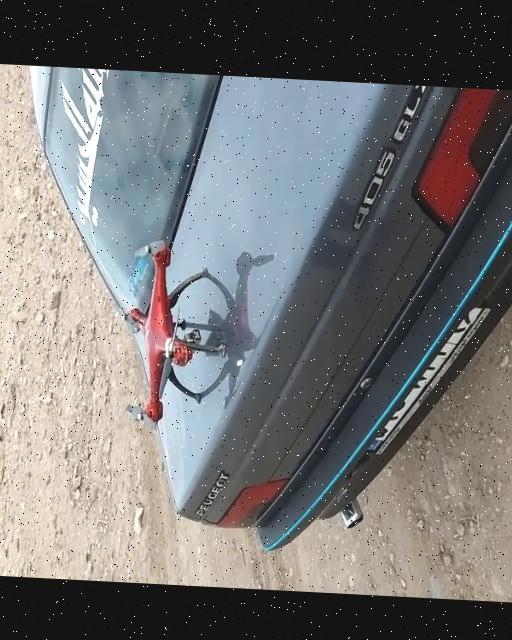drone: (110, 237, 226, 431)
